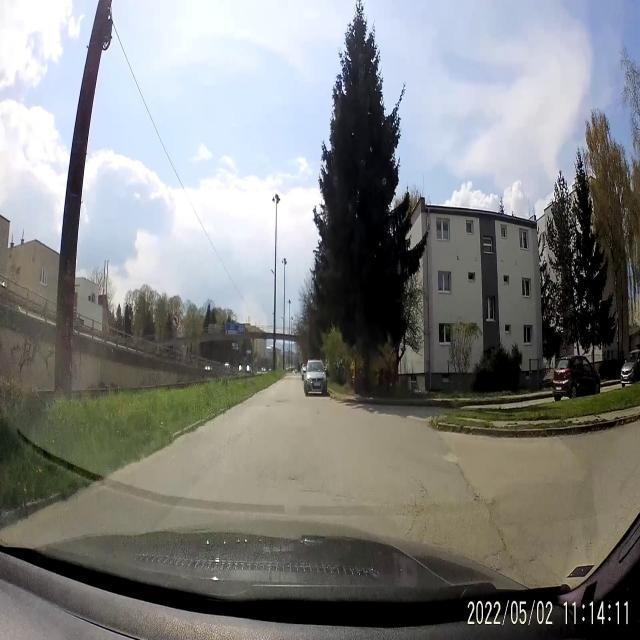Pothole: (464, 479, 488, 517), (276, 394, 294, 408)
